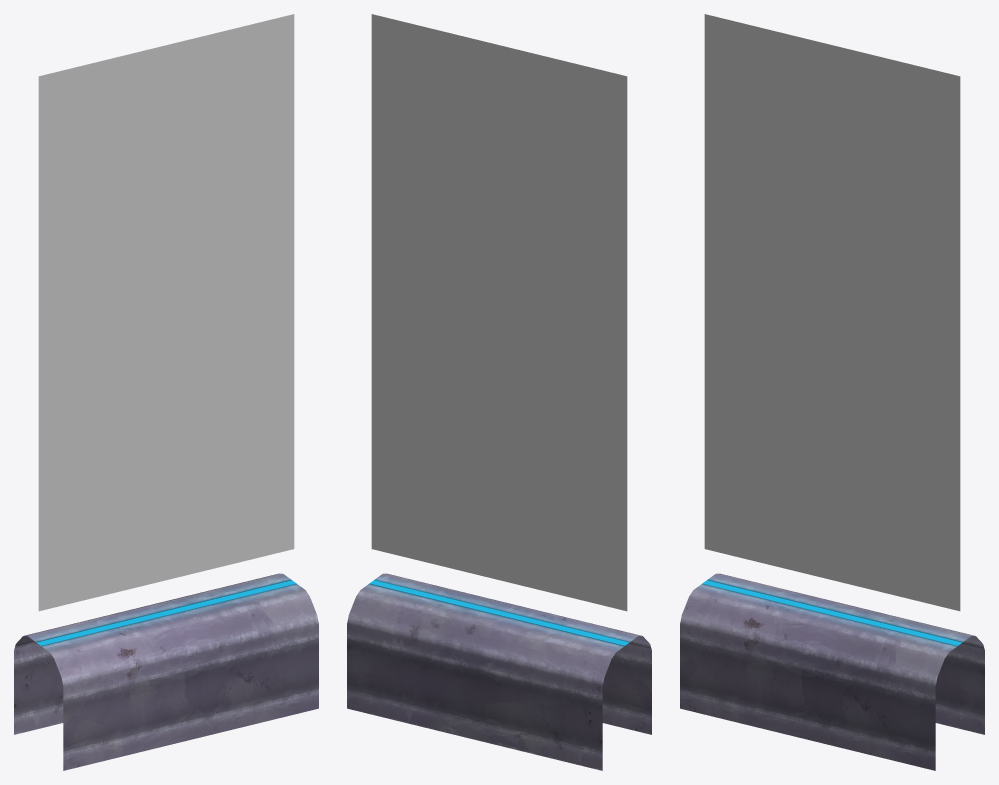
Rendered from SM_Bleachers_Wall_Short.fbx.
The picture shows the model from 3 angles, left to right: view 1: azimuth 30°, elevation 25°; view 2: azimuth 150°, elevation 25°; view 3: azimuth 330°, elevation 25°; orthographic projection.
Visible parts, largest first — view 1: SM_Bleachers_Wall_Short; view 2: SM_Bleachers_Wall_Short; view 3: SM_Bleachers_Wall_Short.
Part boxes in pixels (x1=…): SM_Bleachers_Wall_Short: x1=14, y1=14, x2=318, y2=770; SM_Bleachers_Wall_Short: x1=347, y1=14, x2=651, y2=770; SM_Bleachers_Wall_Short: x1=680, y1=14, x2=984, y2=770.
Bounding box in the file's own units: 300 × 759 × 100.
